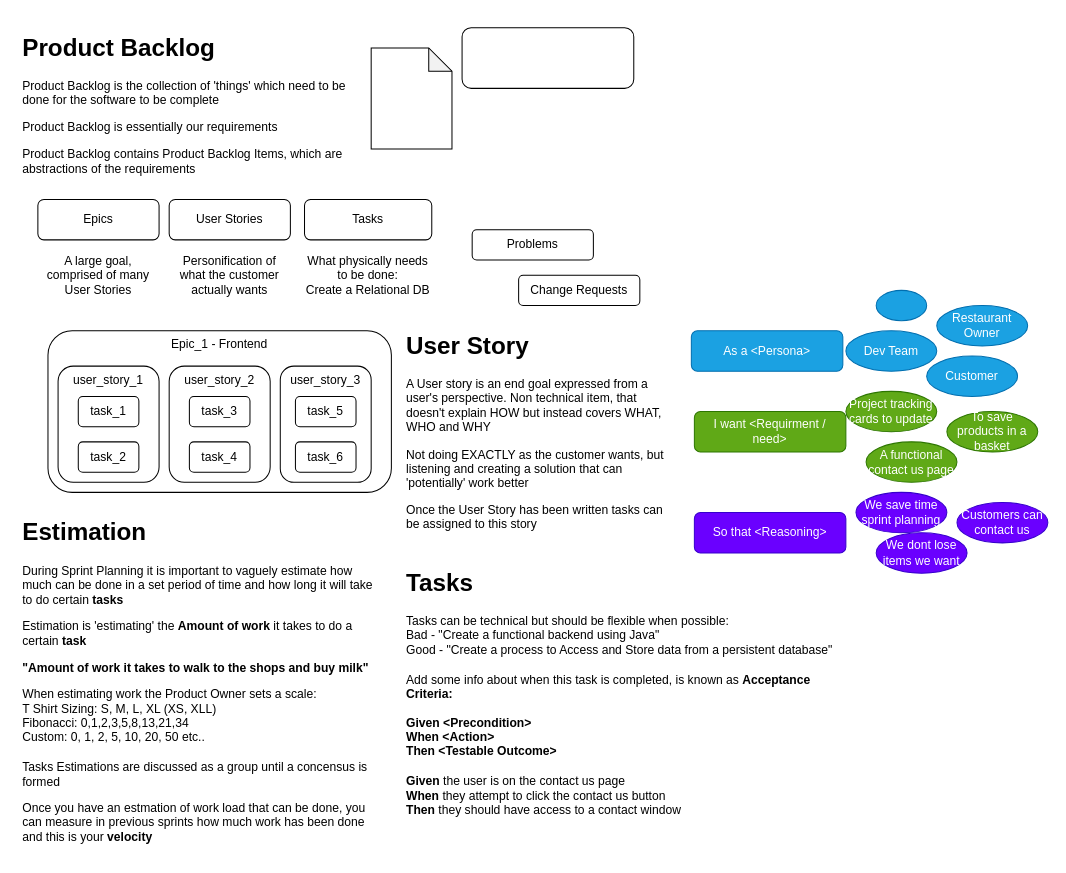
The diagram is 1066 pixels wide and 873 high, and some of its shapes have lost their labels. Each missing label, with the centre of its shape:
"Software should be a user tracking app that is created and maintained with JS" belongs at point 547,57.
"technical_ requirements .docx" belongs at point 411,98.
"User" belongs at point 901,305.
